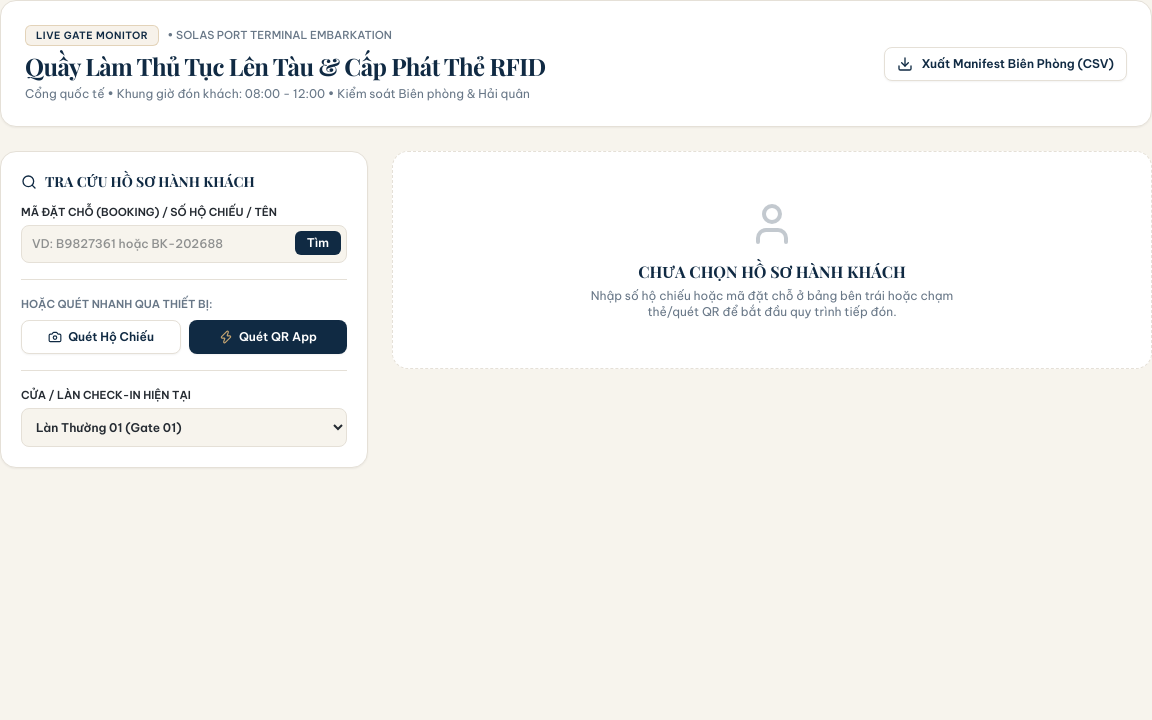
Test: TerminalEmbarkationPage Integration Tests (KAN-387 / KAN-388) › renders port operations monitor and executes passenger lookup
Expected: the heading "Quầy Làm Thủ Tục Lên Tàu & Cấp Phát Thẻ RFID" is shown, x1=25 y1=50 x2=546 y2=82
Step 1. Type "B12345678" into the field with placeholder "VD: B9827361 hoặc BK-202688" → (184, 244), box x1=21 y1=224 x2=347 y2=262
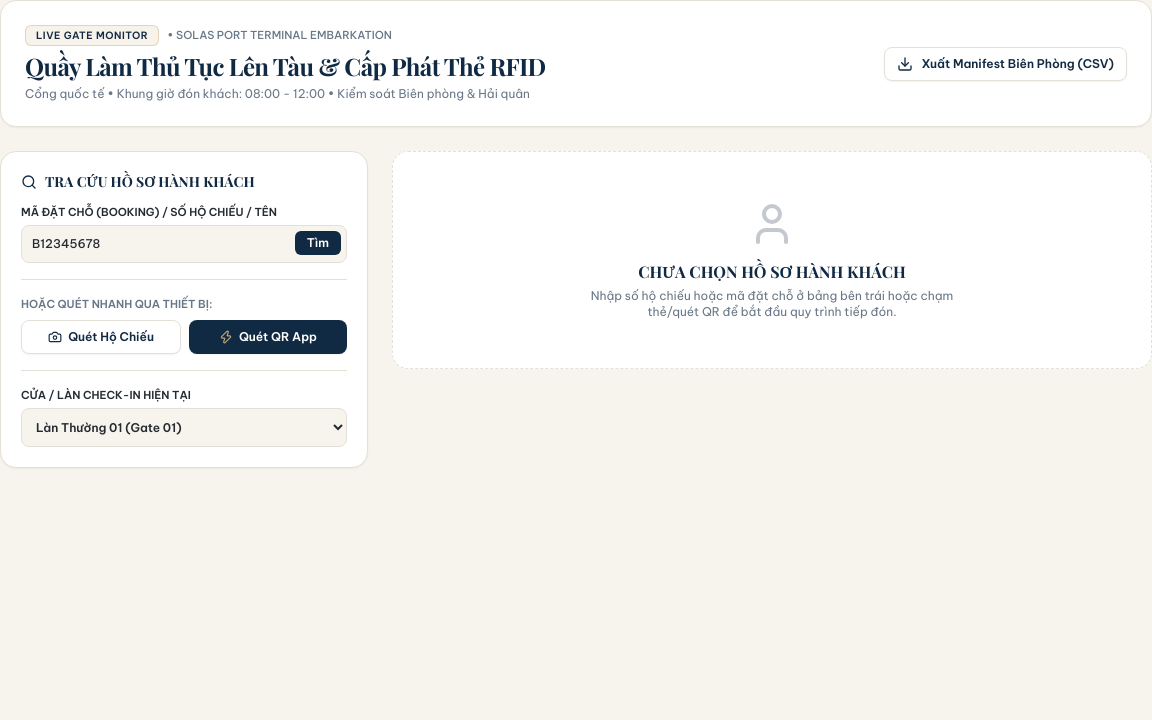
Step 2. Click the button "Tìm" → (318, 242), box x1=295 y1=230 x2=341 y2=254
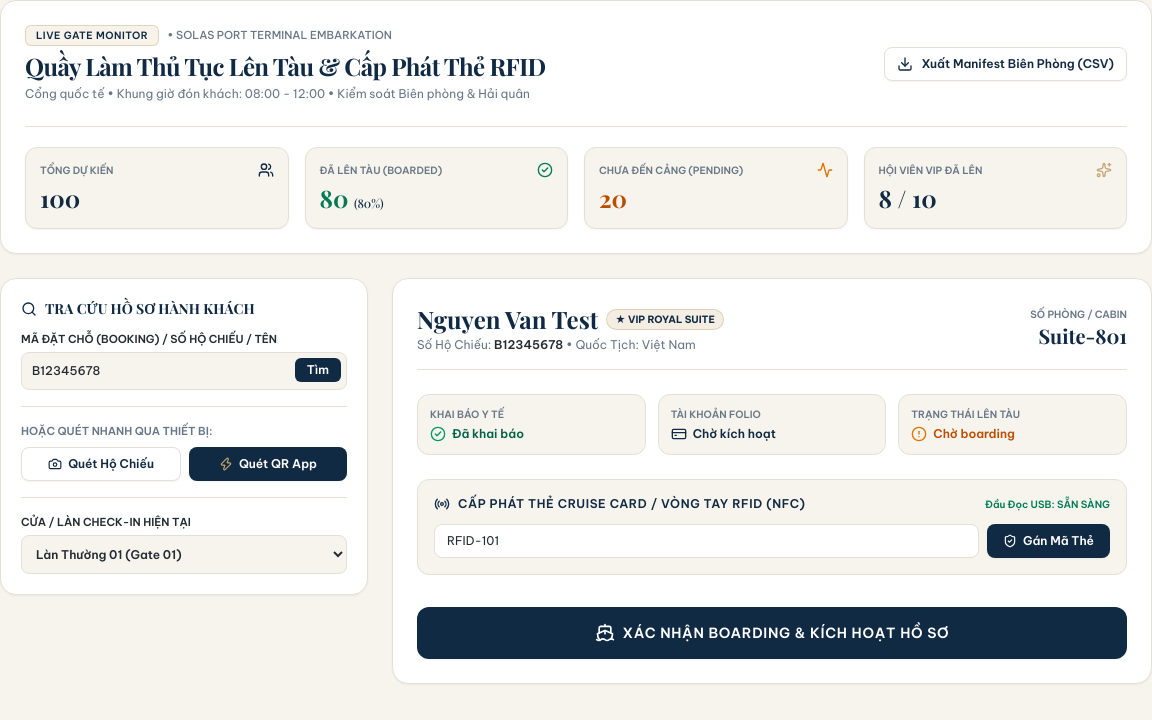
Expected: the heading "Nguyen Van Test" is shown, x1=417 y1=303 x2=598 y2=335
Expected: the text "Suite-801" is shown, x1=1038 y1=322 x2=1127 y2=348
